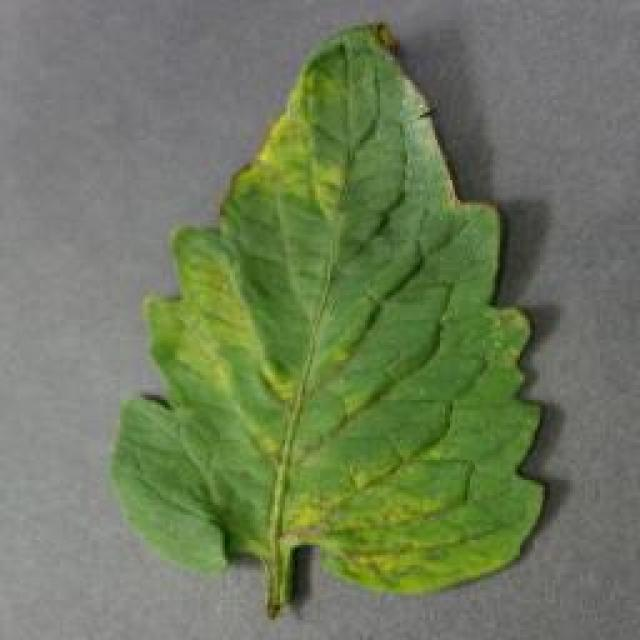Tomato yellow virus leaf: (116, 22, 549, 598)
